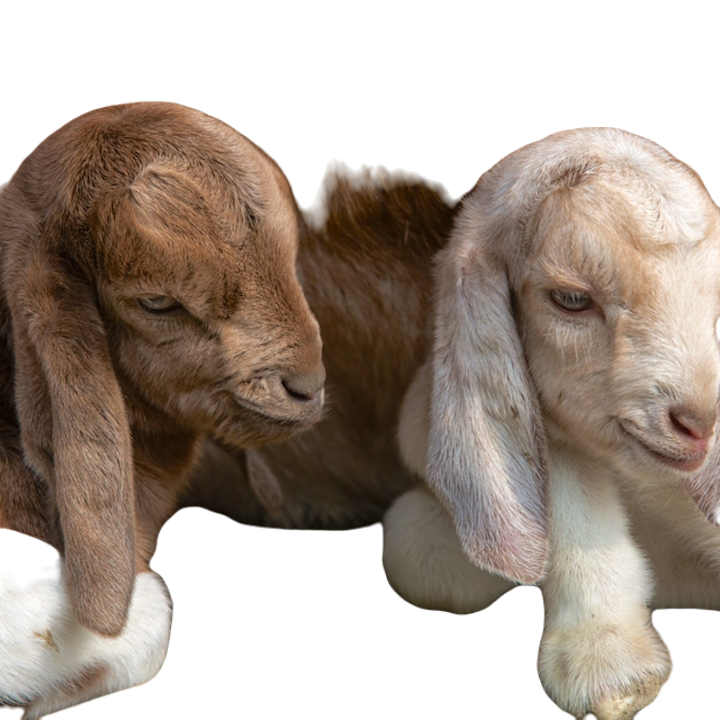Goat: (382, 117, 719, 719)
